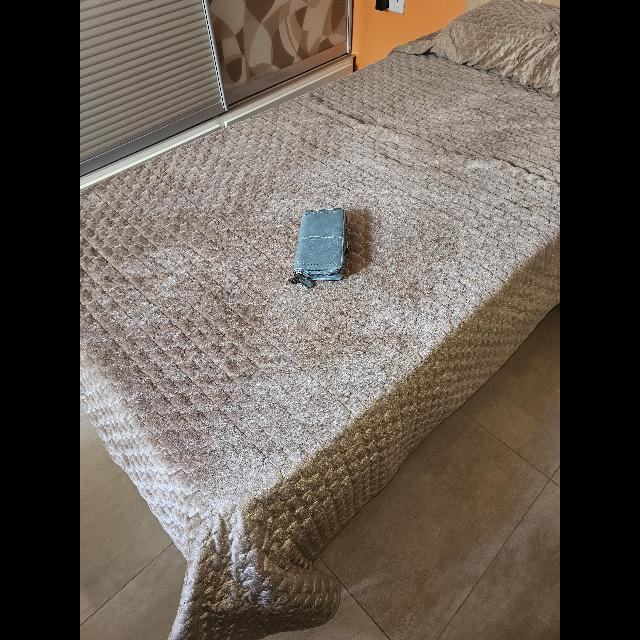Wallet: (292, 207, 348, 283)
